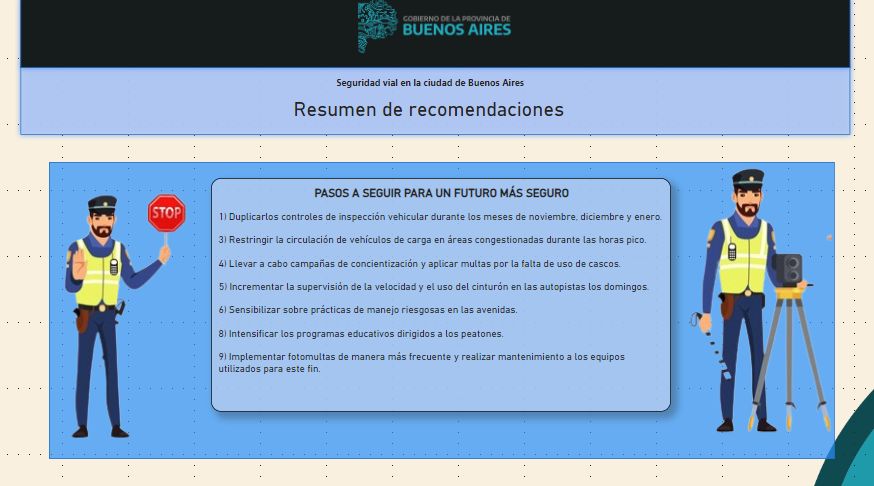

The dashboard page shown, as its layout file describes it:
{"tool":"powerbi","page":{"name":"Recomendaciones","canvas":[1280,720],"ordinal":7},"visuals":[{"type":"shape","box":[28.1,99,1222.9,116.7],"z":0},{"type":"shape","box":[28.1,0,1222.9,118.2],"z":1000},{"type":"image","box":[499.2,0,279.1,99],"z":2000},{"type":"textbox","box":[427.6,148.4,424.7,45.1],"z":3000},{"type":"textbox","box":[490.2,117.8,298.2,30.5],"z":4000},{"type":"shape","box":[77.1,247.3,1143.3,432],"z":5000},{"type":"image","box":[55.3,215.3,257.5,504.7],"z":6000},{"type":"image","box":[964.4,193.5,256,526.5],"z":7000},{"type":"textbox","box":[312.7,270.5,669.1,340.4],"z":8000}]}

Visuals, with their boxes in screenshot pixels (x1, y1, x2, y2), scaled from the page's 1280x720 canvas onto the 874x486 screenshot:
shape: bbox=(19, 67, 854, 146)
shape: bbox=(19, 0, 854, 80)
image: bbox=(341, 0, 531, 67)
textbox: bbox=(292, 100, 582, 131)
textbox: bbox=(335, 80, 538, 100)
shape: bbox=(53, 167, 833, 459)
image: bbox=(38, 145, 214, 485)
image: bbox=(659, 131, 833, 485)
textbox: bbox=(214, 183, 670, 412)
